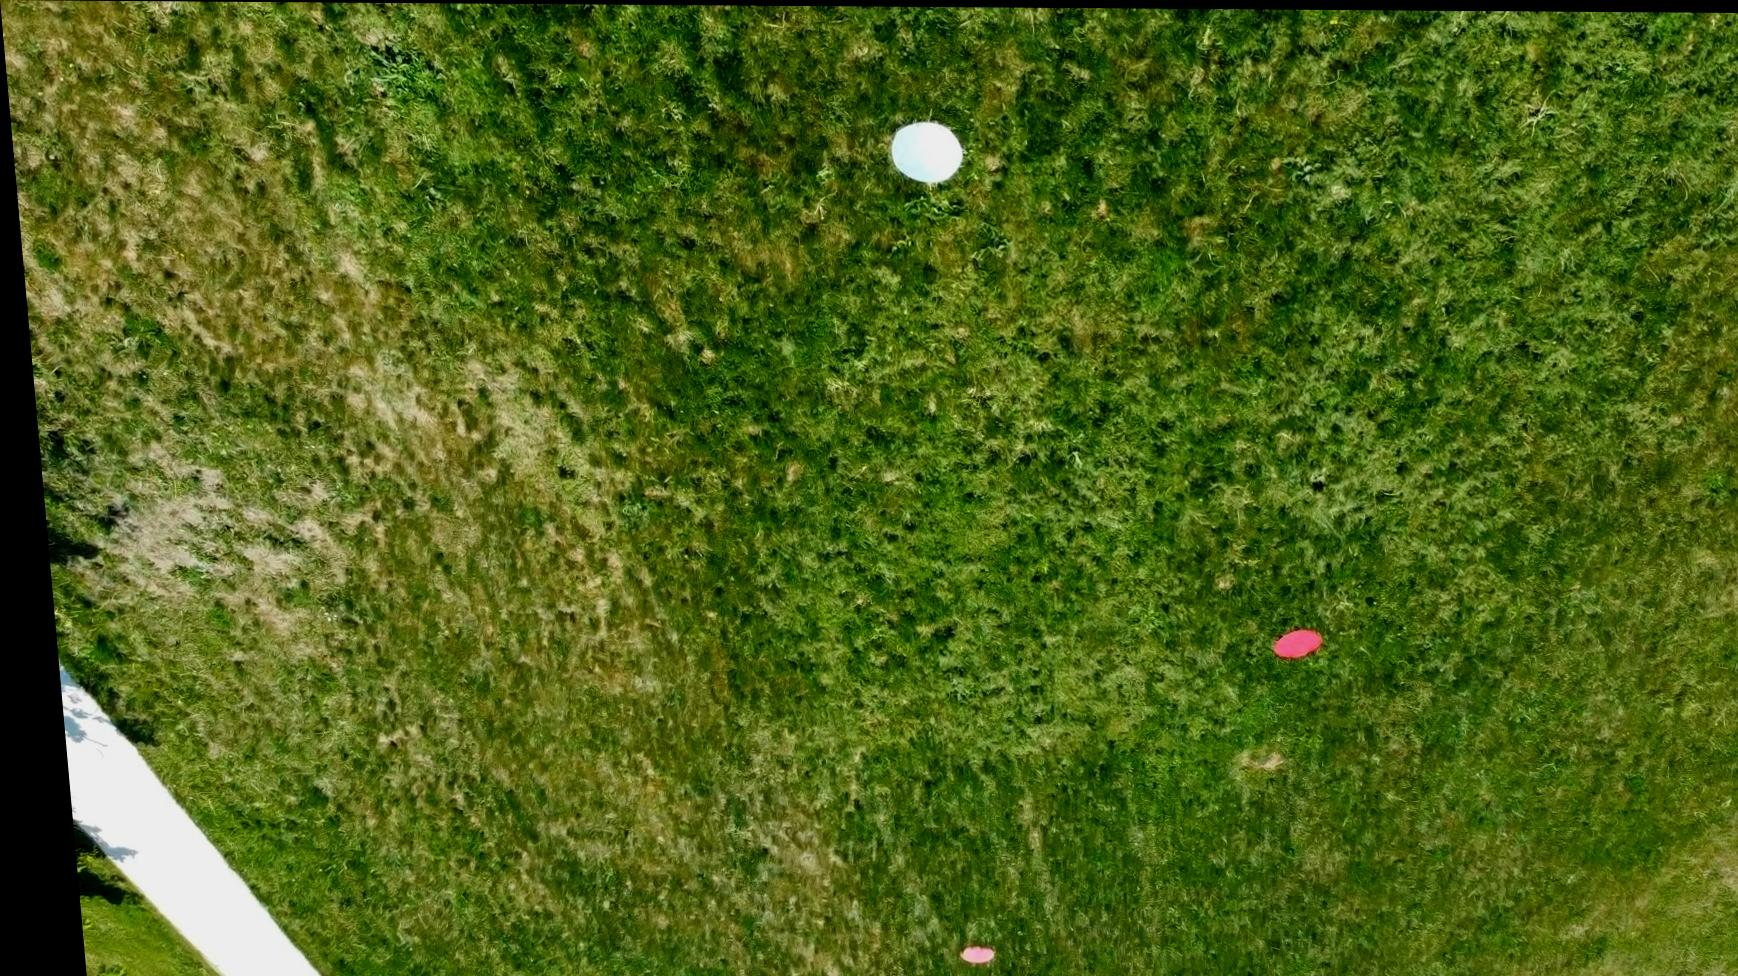Blue: (883, 119, 967, 184)
Red: (1257, 624, 1315, 661), (941, 943, 981, 964)
